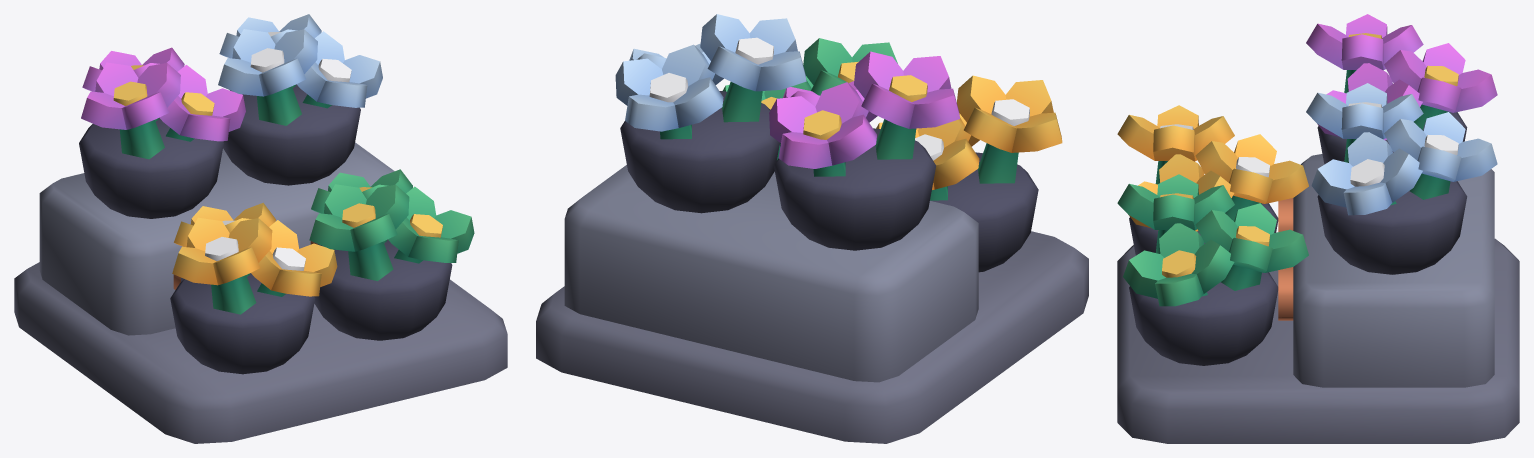
File: display-flowers.glb
3 renders of one model, left to right at view 1: azimuth 30°, elevation 25°; view 2: azimuth 150°, elevation 25°; view 3: azimuth 270°, elevation 25°, orthographic. The views are drawn at different scales.
Parts seen in each view (by area): view 1: flower (×4), display-flowers; view 2: display-flowers, flower (×4); view 3: flower (×4), display-flowers.
Boxes of the visible parts, x1,y1,x2,y2 form: flower (×4): (79,14,474,374); display-flowers: (14,142,507,443); display-flowers: (536,165,1088,443); flower (×4): (615,14,1062,272); flower (×4): (1117,14,1497,365); display-flowers: (1117,154,1519,443).
Bounding box in the file's own units: 0.8 × 0.6321 × 0.8003.
1 material, 1 textured.
